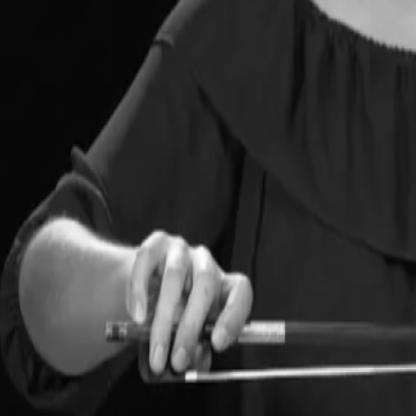good: (122, 205, 259, 390)
